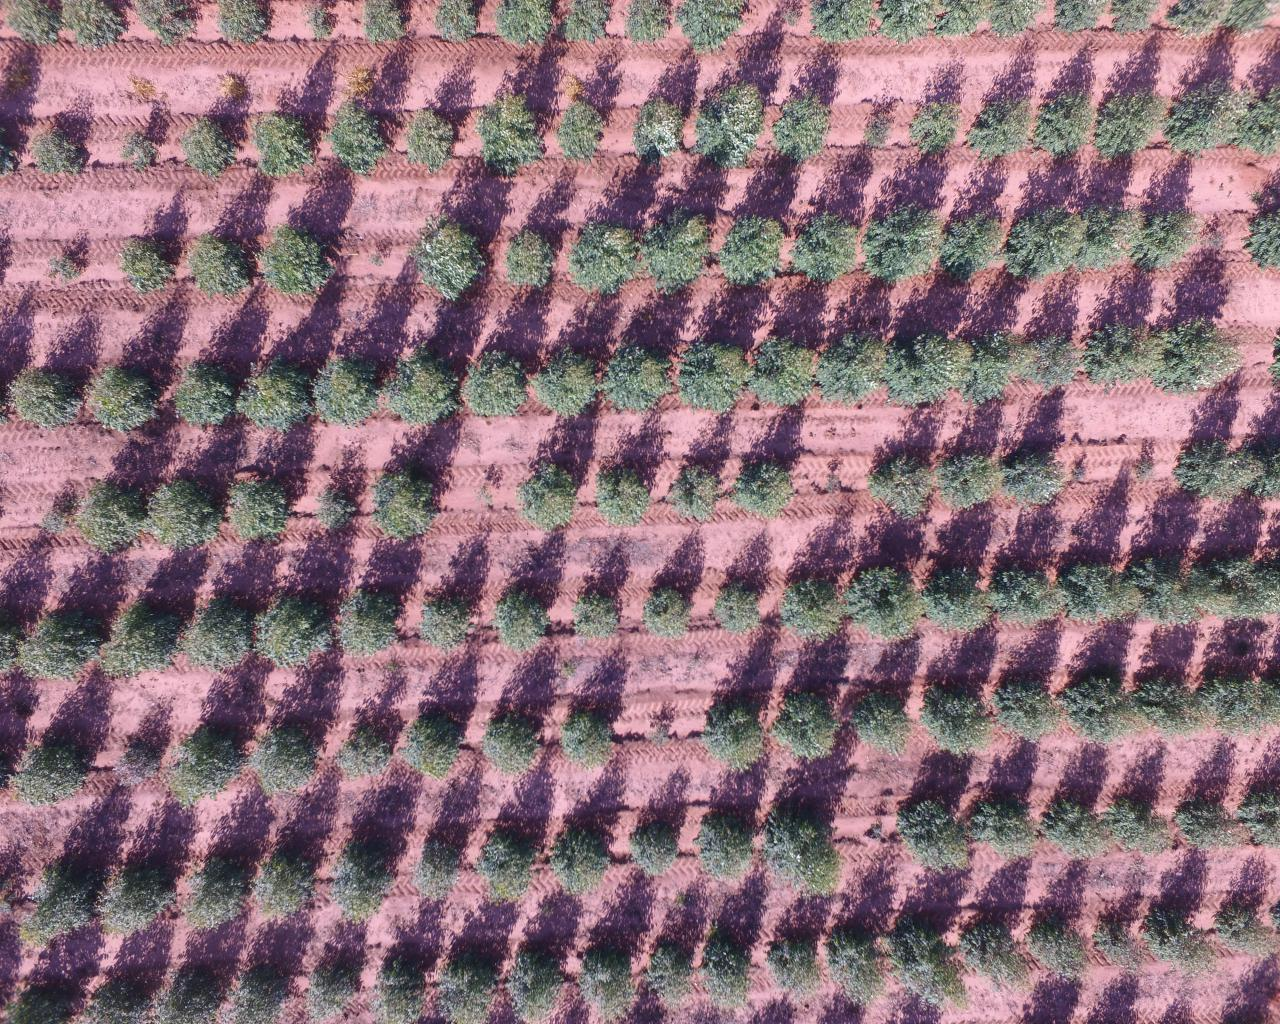Tree: (760, 791, 860, 899), (14, 690, 100, 810), (1156, 284, 1240, 404), (550, 772, 627, 902), (247, 806, 325, 931), (884, 901, 968, 1014), (698, 661, 776, 781), (327, 804, 400, 929), (400, 209, 493, 305), (100, 582, 187, 684), (550, 662, 634, 766), (404, 797, 480, 912), (839, 667, 916, 777), (16, 323, 97, 427), (1128, 502, 1196, 626), (884, 301, 961, 410), (481, 774, 546, 901), (493, 543, 566, 656), (768, 664, 848, 766), (382, 338, 466, 436), (870, 414, 940, 531), (920, 529, 995, 635), (684, 69, 766, 167), (405, 664, 473, 781), (483, 667, 557, 773), (251, 696, 327, 799), (172, 697, 248, 801), (926, 661, 999, 768), (252, 220, 343, 306), (368, 451, 452, 543), (471, 77, 551, 174), (775, 535, 846, 643), (1182, 738, 1249, 852), (304, 348, 393, 434), (850, 530, 918, 639), (642, 535, 706, 651), (1165, 60, 1241, 158), (36, 90, 109, 191), (259, 576, 338, 670), (142, 470, 226, 558), (965, 877, 1025, 999), (1212, 855, 1275, 971), (231, 352, 315, 438), (713, 528, 774, 644), (631, 764, 693, 879), (511, 442, 586, 536), (1066, 508, 1128, 621), (596, 333, 680, 417), (89, 333, 162, 429), (637, 206, 714, 298), (895, 790, 976, 877), (338, 565, 412, 659), (1095, 65, 1164, 164), (1101, 763, 1172, 859), (934, 420, 1004, 517), (995, 529, 1066, 623), (569, 545, 635, 647), (245, 102, 324, 186), (999, 204, 1084, 282), (565, 218, 639, 307), (184, 580, 257, 670), (997, 412, 1063, 511), (865, 196, 937, 286), (418, 550, 484, 648), (960, 71, 1030, 163), (694, 792, 759, 891), (318, 99, 398, 179), (72, 471, 147, 556), (662, 434, 727, 530), (490, 215, 566, 297), (592, 442, 659, 534), (173, 336, 240, 427), (824, 920, 889, 1013), (902, 75, 972, 161), (224, 466, 298, 546), (670, 339, 752, 411), (1035, 778, 1103, 864), (181, 226, 260, 299), (623, 79, 690, 166), (345, 678, 402, 778), (569, 935, 634, 1024), (1068, 658, 1132, 748), (792, 202, 858, 288), (1028, 878, 1086, 977), (1130, 653, 1194, 741), (1149, 877, 1207, 975), (1032, 72, 1094, 163), (1019, 297, 1076, 394), (938, 207, 1004, 290), (730, 440, 800, 518), (1083, 309, 1150, 390), (527, 344, 603, 415), (1000, 662, 1060, 753), (457, 344, 530, 417), (176, 111, 252, 181), (700, 916, 755, 1013), (962, 299, 1018, 394), (816, 323, 884, 400), (115, 229, 180, 308), (507, 936, 565, 1024), (773, 79, 833, 165), (752, 332, 816, 412), (436, 948, 502, 1024), (762, 925, 832, 996), (305, 456, 367, 535), (718, 214, 784, 286), (645, 930, 703, 1010), (1078, 195, 1142, 269), (225, 960, 298, 1024), (1094, 878, 1140, 976), (369, 947, 426, 1024), (113, 706, 169, 785), (968, 789, 1032, 856), (405, 100, 463, 173), (303, 956, 365, 1024), (1138, 201, 1194, 273), (34, 235, 98, 293), (853, 83, 900, 160), (554, 100, 608, 165), (122, 106, 167, 167), (644, 696, 680, 745)
